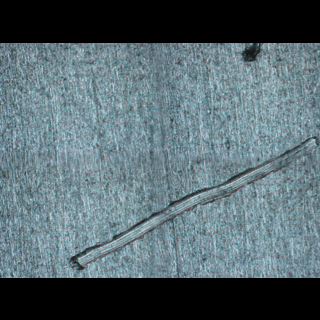d: (66, 133, 319, 270)
